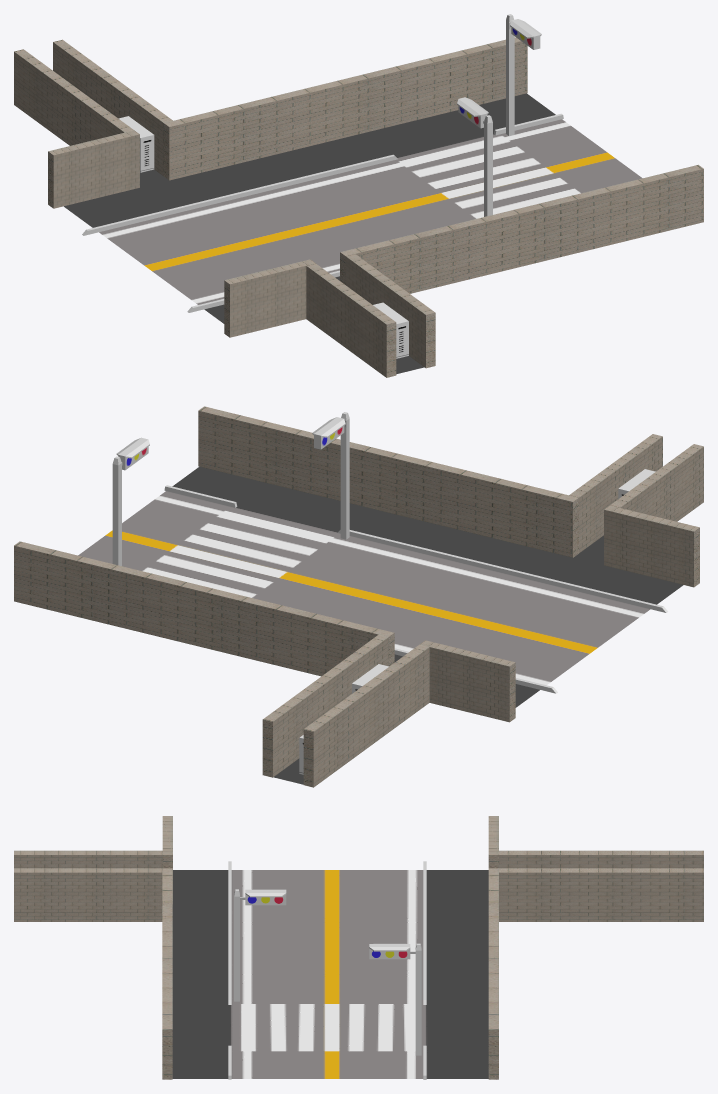
The model's file is kikyou_1stmap.FBX.
3 views of the same model, one above another, from view 1: azimuth 30°, elevation 25°; view 2: azimuth 150°, elevation 25°; view 3: azimuth 270°, elevation 25° (orthographic). The views are drawn at different scales.
Visible parts, largest first — view 1: yuka001, hei001, hei004, hei008, hei006, hei002, hei003, hei005, hei007, gardreal003, singouki001_body, singouki002_body (+4 smaller); view 2: yuka001, hei004, hei001, hei006, hei003, hei005, hei002, hei008, hei007, gardreal004, singouki002_body, singouki001_body (+2 smaller); view 3: yuka001, hei005, hei007, hei006, hei008, hei001, hei004, singouki001_body, singouki002_main, singouki001_main, singouki002_body, hei003 (+3 smaller).
Part boxes in pixels (x1,y1,x2,y2): yuka001: (64,93,642,323); hei001: (163,37,527,180); hei004: (340,164,703,293); hei008: (306,263,396,377); hei006: (14,49,133,145); hei002: (48,130,139,208); hei003: (224,259,315,337); hei005: (53,39,172,175); hei007: (345,254,435,368); gardreal003: (82,154,397,235); singouki001_body: (506,14,514,135); singouki002_body: (483,115,492,216); yuka001: (78,466,683,707); hei004: (198,406,578,557); hei001: (14,541,394,676); hei006: (303,644,429,787); hei003: (604,505,699,587); hei005: (262,634,388,777); hei002: (420,640,515,722); hei008: (610,444,703,521); hei007: (569,434,662,553); gardreal004: (337,530,667,612); singouki002_body: (340,412,349,539); singouki001_body: (112,456,122,565); yuka001: (172,870,488,1078); hei005: (499,868,703,921); hei007: (14,868,162,921); hei006: (499,850,703,868); hei008: (14,850,162,868); hei001: (488,868,498,1079); hei004: (162,868,172,1079); singouki001_body: (410,943,421,1055); singouki002_main: (245,889,286,905); singouki001_main: (369,943,410,959); singouki002_body: (234,889,245,1001); hei003: (162,816,172,903).
Size of the model in its own units: 357 by 481 by 84.73.
